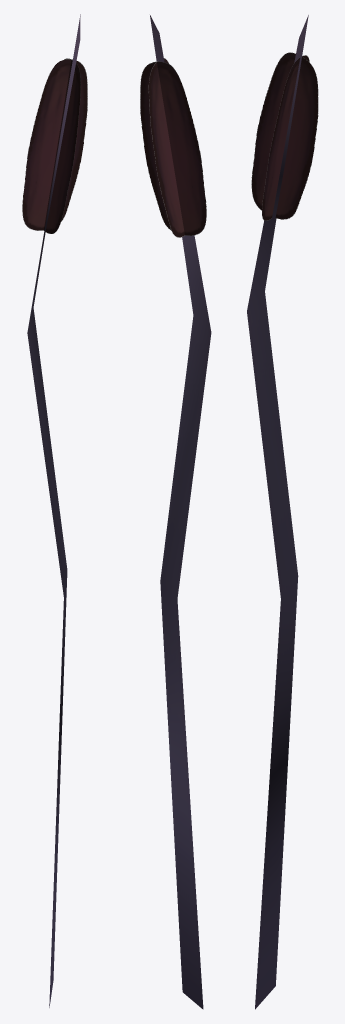
Rendered from PROP_ReedTail_01.fbx.
The picture shows the model from 3 angles, left to right: view 1: azimuth 30°, elevation 25°; view 2: azimuth 150°, elevation 25°; view 3: azimuth 330°, elevation 25°; orthographic projection. The views are drawn at different scales.
Visible parts, largest first — view 1: PROP_ReedTail_01; view 2: PROP_ReedTail_01; view 3: PROP_ReedTail_01.
Part boxes in pixels (x1,y1,x2,y2): PROP_ReedTail_01: [22, 14, 87, 1007]; PROP_ReedTail_01: [140, 15, 211, 1009]; PROP_ReedTail_01: [247, 15, 318, 1009].
Size of the model in its own units: 31.25 by 342 by 20.93.
